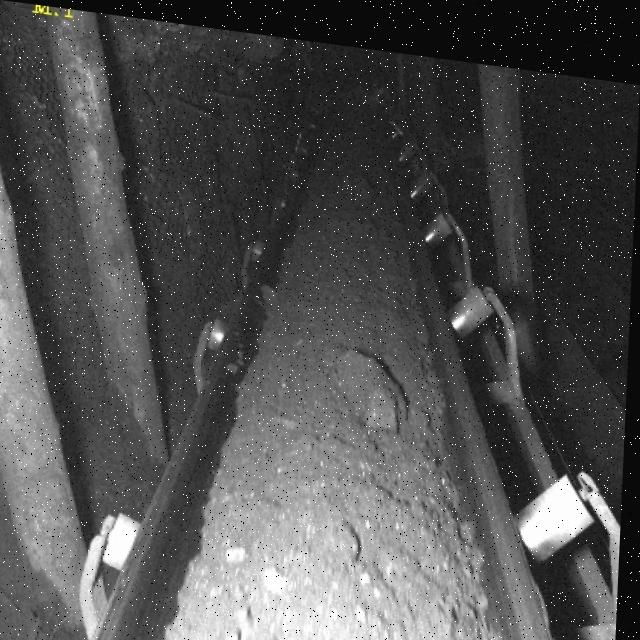large_sized_coal: (331, 335, 415, 423)
